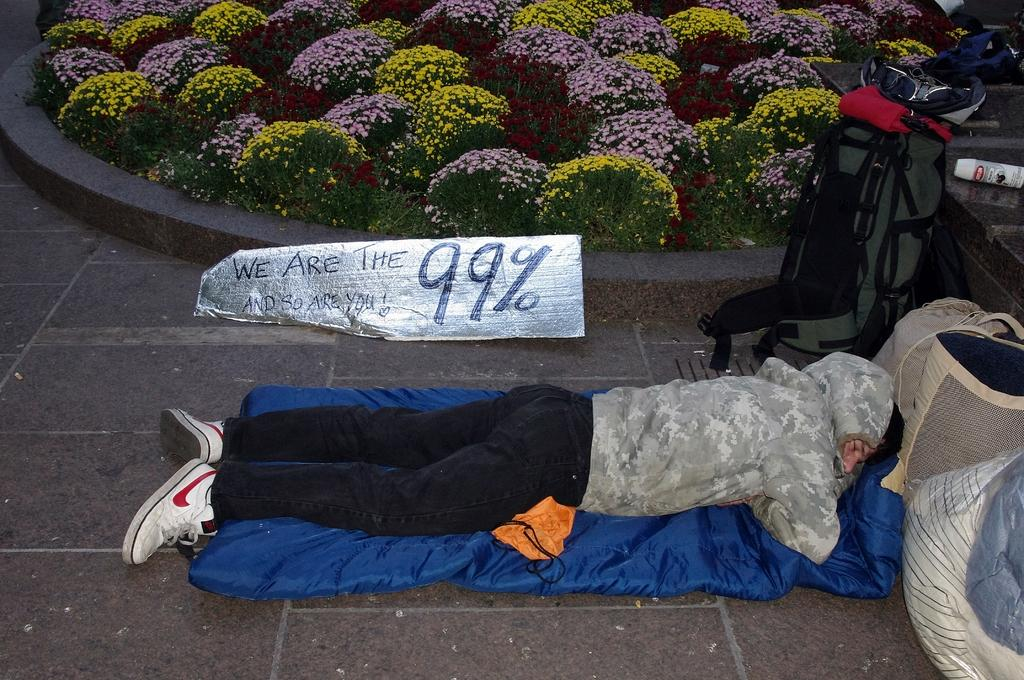Luggage-and-bags: (698, 76, 947, 367), (879, 298, 1023, 510), (913, 29, 1023, 92)
